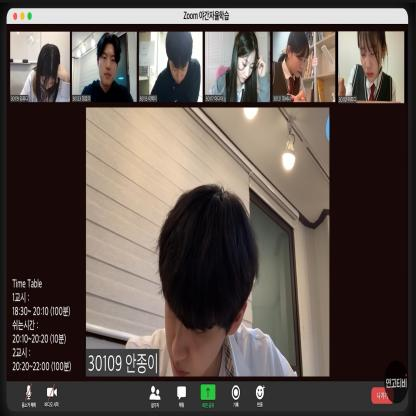streamer: (126, 184, 298, 376), (210, 32, 269, 102), (338, 31, 396, 100), (150, 31, 200, 102), (82, 33, 133, 102), (21, 43, 70, 102), (272, 33, 310, 101)
